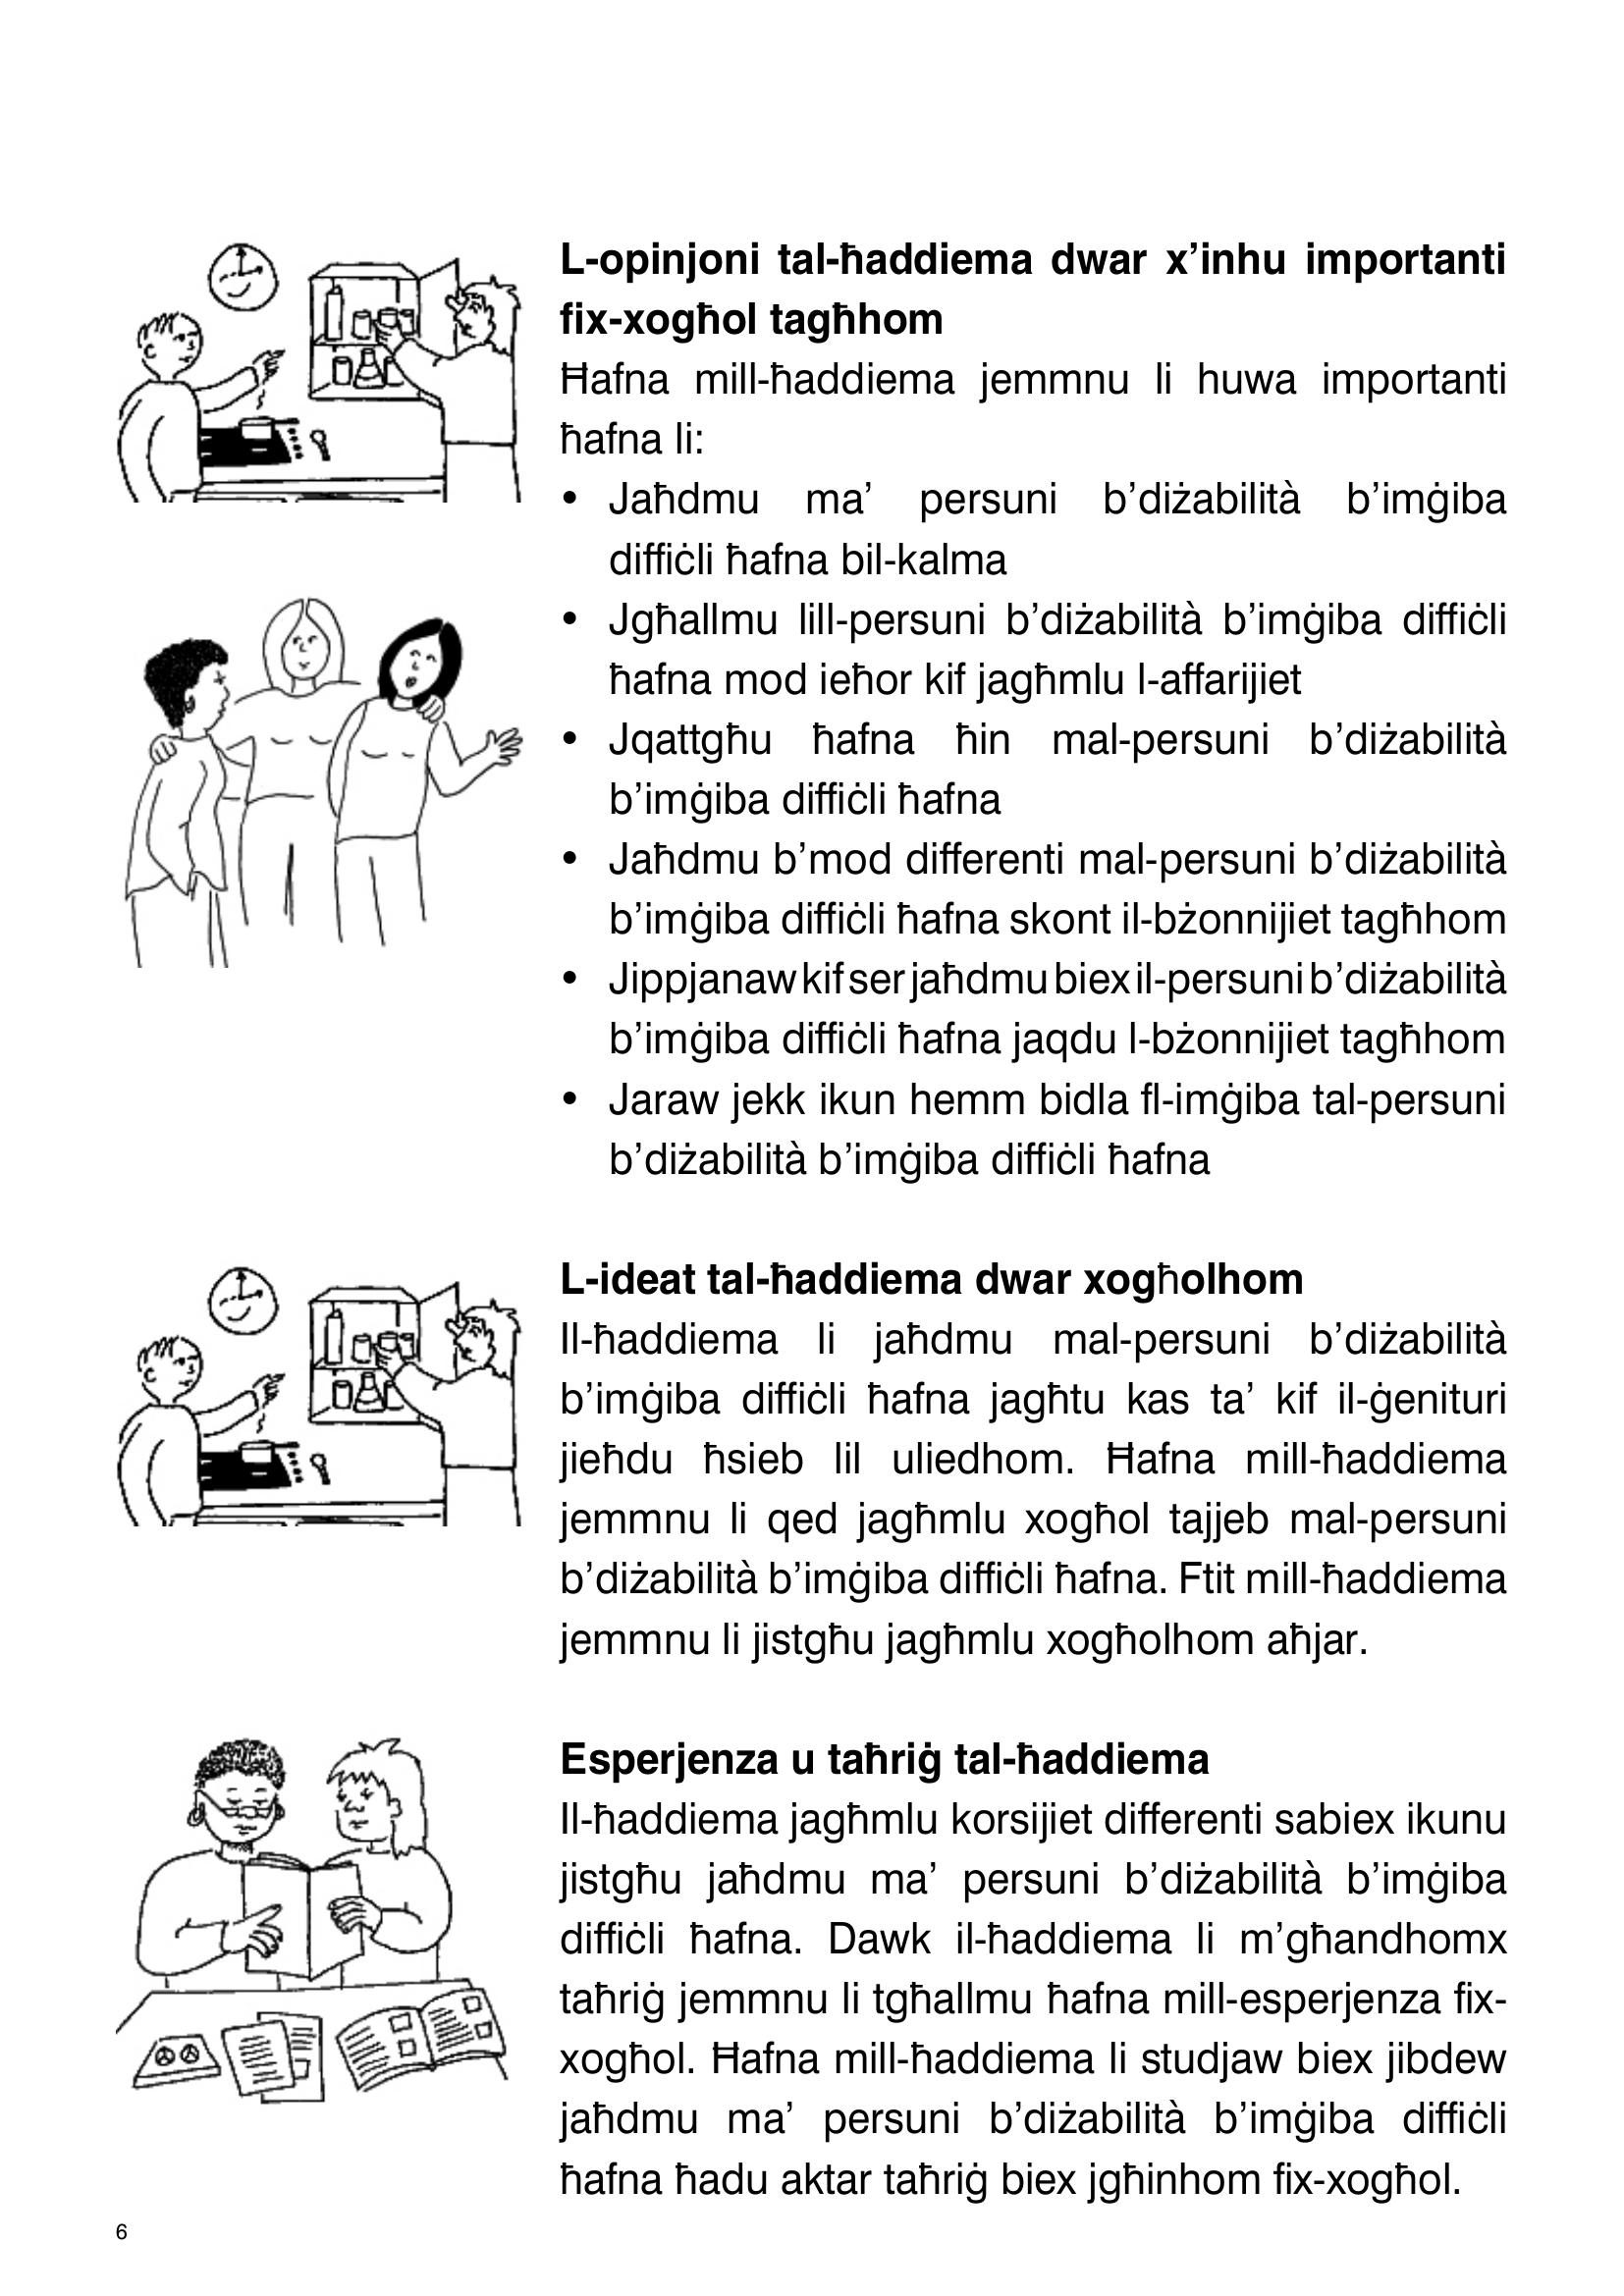text: (538, 230, 1547, 2224)
